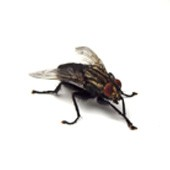fly: (28, 43, 142, 132)
